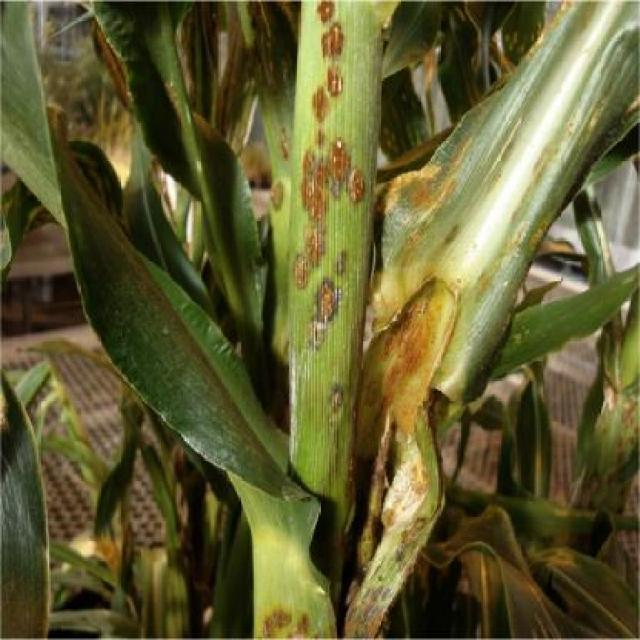Corn_Rust: (226, 0, 403, 434)
